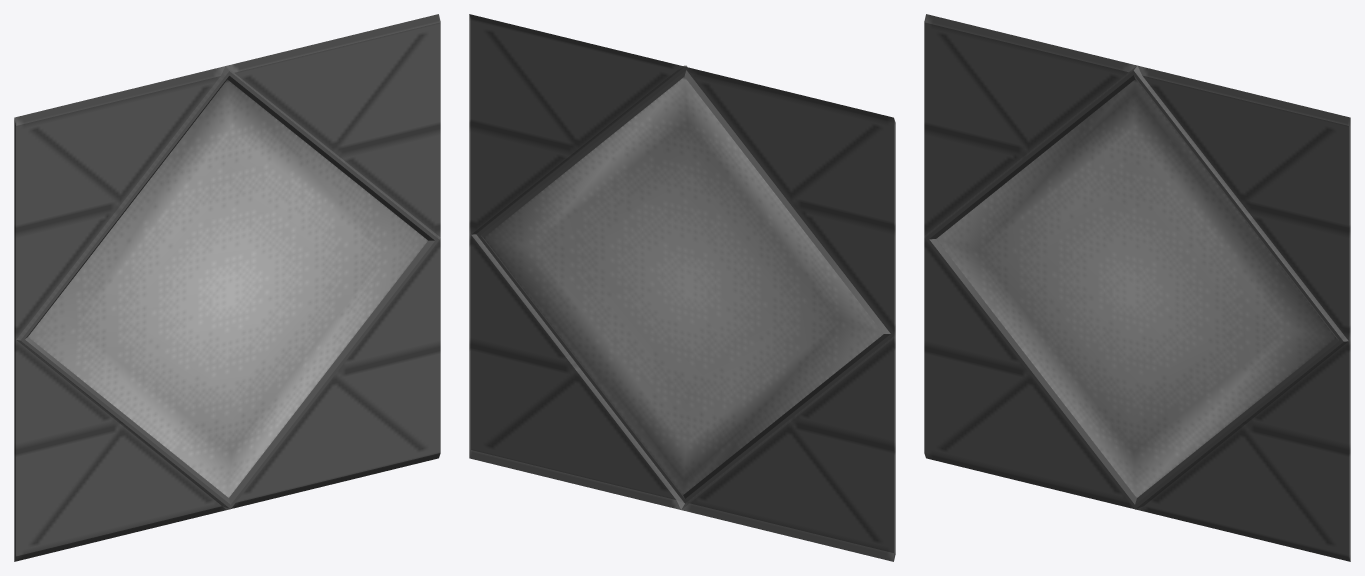
File: sec1_3.fbx
The picture shows the model from 3 angles, left to right: view 1: azimuth 30°, elevation 25°; view 2: azimuth 150°, elevation 25°; view 3: azimuth 330°, elevation 25°; orthographic projection.
Visible parts, largest first — view 1: sec1_3_mesh; view 2: sec1_3_mesh; view 3: sec1_3_mesh.
Boxes of the visible parts, x1=… form: sec1_3_mesh: x1=14, y1=14, x2=440, y2=561; sec1_3_mesh: x1=469, y1=14, x2=895, y2=561; sec1_3_mesh: x1=924, y1=14, x2=1350, y2=561.
Size of the model in its own units: 256 by 256 by 6.
